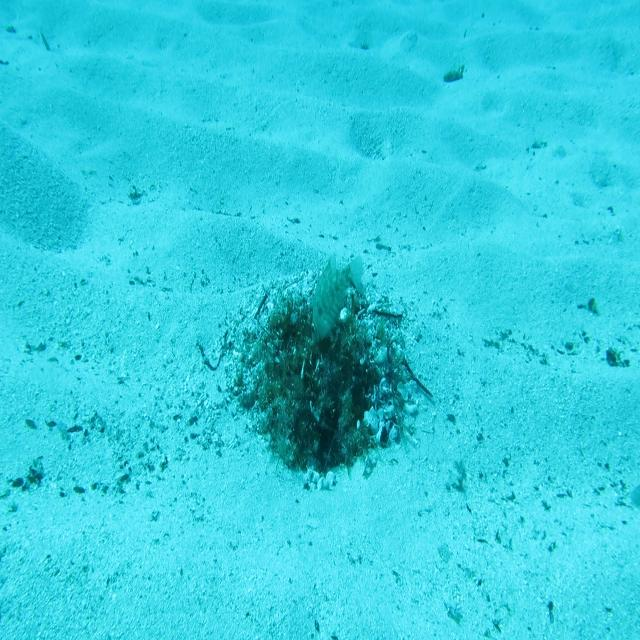INSF: (308, 250, 366, 349)
core_nest: (292, 319, 340, 363)
female: (628, 478, 640, 515)
nest: (222, 269, 431, 499)
vegetation: (442, 64, 467, 86)
